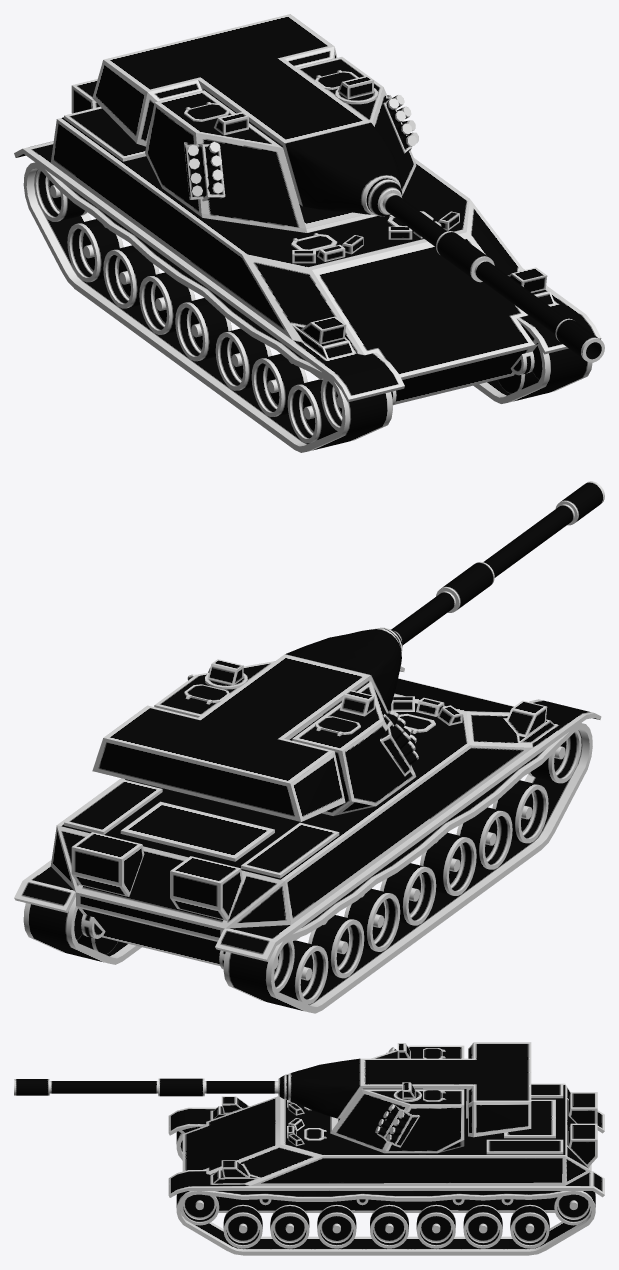
Rendered from Type63_Heavy.fbx.
3 views of the same model, one above another, from view 1: azimuth 30°, elevation 25°; view 2: azimuth 150°, elevation 25°; view 3: azimuth 270°, elevation 25° (orthographic). The views are drawn at different scales.
Parts seen in each view (by area): view 1: Heavy_Hull, Heavy_RightTrack, Heavy_Cannon, Heavy_Turret, Heavy_Barrel, Heavy_LeftTrack; view 2: Heavy_Hull, Heavy_RightTrack, Heavy_Cannon, Heavy_Turret, Heavy_Barrel, Heavy_LeftTrack; view 3: Heavy_Hull, Heavy_LeftTrack, Heavy_Cannon, Heavy_Turret, Heavy_Barrel.
Boxes of the visible parts, bbox=[...] form: Heavy_Hull: bbox=[14, 79, 601, 405]; Heavy_RightTrack: bbox=[23, 162, 392, 452]; Heavy_Cannon: bbox=[92, 14, 402, 216]; Heavy_Turret: bbox=[145, 57, 418, 232]; Heavy_Barrel: bbox=[382, 193, 604, 362]; Heavy_LeftTrack: bbox=[473, 344, 592, 403]; Heavy_Hull: bbox=[14, 666, 601, 969]; Heavy_RightTrack: bbox=[223, 723, 592, 1013]; Heavy_Cannon: bbox=[92, 627, 402, 821]; Heavy_Turret: bbox=[154, 659, 418, 815]; Heavy_Barrel: bbox=[391, 481, 604, 645]; Heavy_LeftTrack: bbox=[23, 897, 141, 964]; Heavy_Hull: bbox=[168, 1083, 604, 1212]; Heavy_LeftTrack: bbox=[176, 1191, 595, 1255]; Heavy_Cannon: bbox=[278, 1042, 531, 1137]; Heavy_Turret: bbox=[330, 1043, 464, 1153]; Heavy_Barrel: bbox=[14, 1078, 278, 1096].
Size of the model in its own units: 197 by 172 by 612.
Materials: 1 (1 with a texture image).
